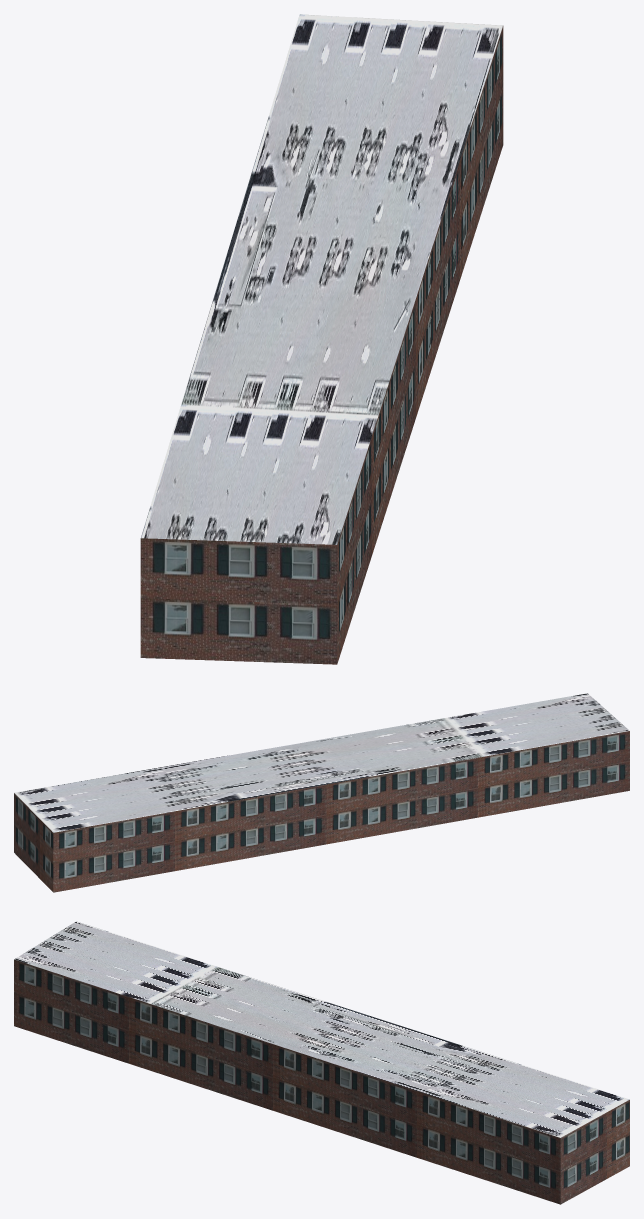
The model's file is ResTex__1856.fbx.
3 views of the same model, one above another, from view 1: azimuth 30°, elevation 25°; view 2: azimuth 150°, elevation 25°; view 3: azimuth 270°, elevation 25° (orthographic). The views are drawn at different scales.
Parts seen in each view (by area): view 1: CityEngineMaterial_8_m, CityEngineMaterial_14_m; view 2: CityEngineMaterial_14_m, CityEngineMaterial_8_m; view 3: CityEngineMaterial_14_m, CityEngineMaterial_8_m.
Boxes of the visible parts, x1,y1,x2,y2 form: CityEngineMaterial_8_m: (141, 14, 502, 544); CityEngineMaterial_14_m: (140, 26, 503, 664); CityEngineMaterial_14_m: (14, 731, 629, 892); CityEngineMaterial_8_m: (14, 693, 629, 832); CityEngineMaterial_14_m: (14, 959, 629, 1204); CityEngineMaterial_8_m: (14, 921, 629, 1137).
Bounding box in the file's own units: 41.81 × 6 × 50.23.
Materials: 2 (2 with a texture image).
